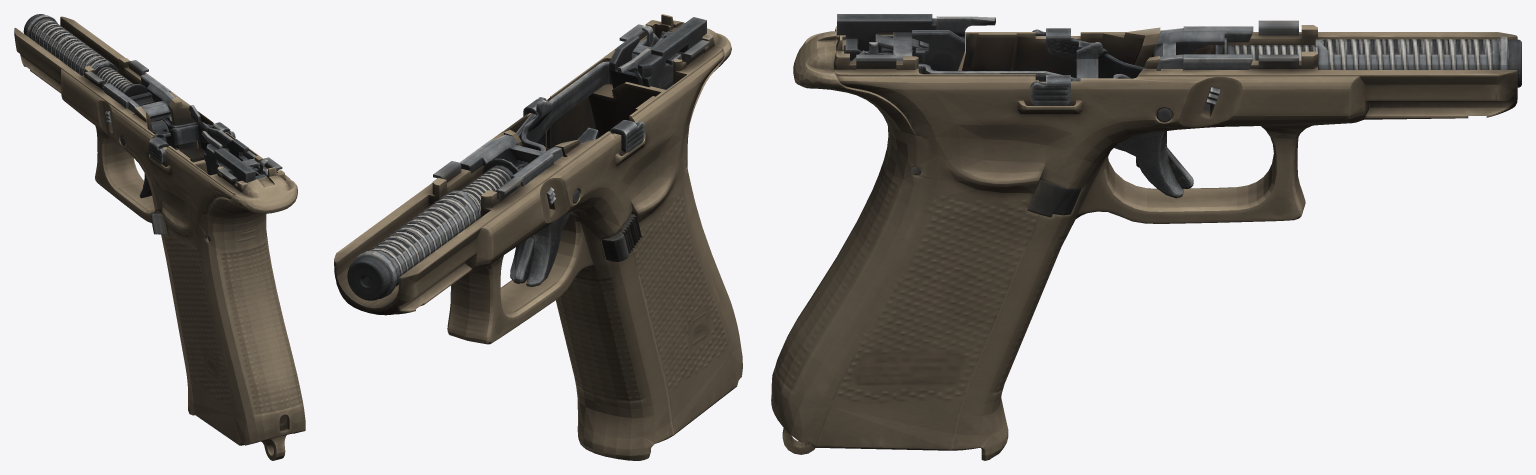
3 renders of one model, left to right at view 1: azimuth 30°, elevation 25°; view 2: azimuth 150°, elevation 25°; view 3: azimuth 270°, elevation 25°, orthographic. The views are drawn at different scales.
Parts seen in each view (by area): view 1: TW_63088377b5cd696784087147_PZ_Import; view 2: TW_63088377b5cd696784087147_PZ_Import; view 3: TW_63088377b5cd696784087147_PZ_Import.
Part boxes in pixels (x1,y1,x2,y2): TW_63088377b5cd696784087147_PZ_Import: [14, 14, 305, 460]; TW_63088377b5cd696784087147_PZ_Import: [334, 14, 742, 460]; TW_63088377b5cd696784087147_PZ_Import: [771, 14, 1521, 460].
Size of the model in its own units: 0.0185 by 0.1087 by 0.0684.
1 material, 1 textured.
